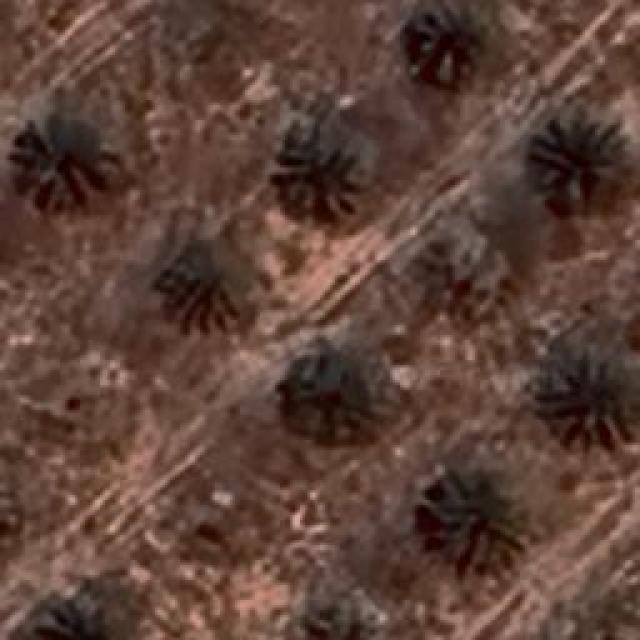PalmTree: (90, 41, 454, 88), (420, 470, 530, 570), (10, 115, 115, 210), (155, 230, 250, 328), (73, 88, 90, 619), (545, 348, 635, 442), (532, 118, 626, 208), (270, 128, 360, 215), (294, 352, 376, 446), (295, 597, 381, 640), (0, 459, 16, 557)
